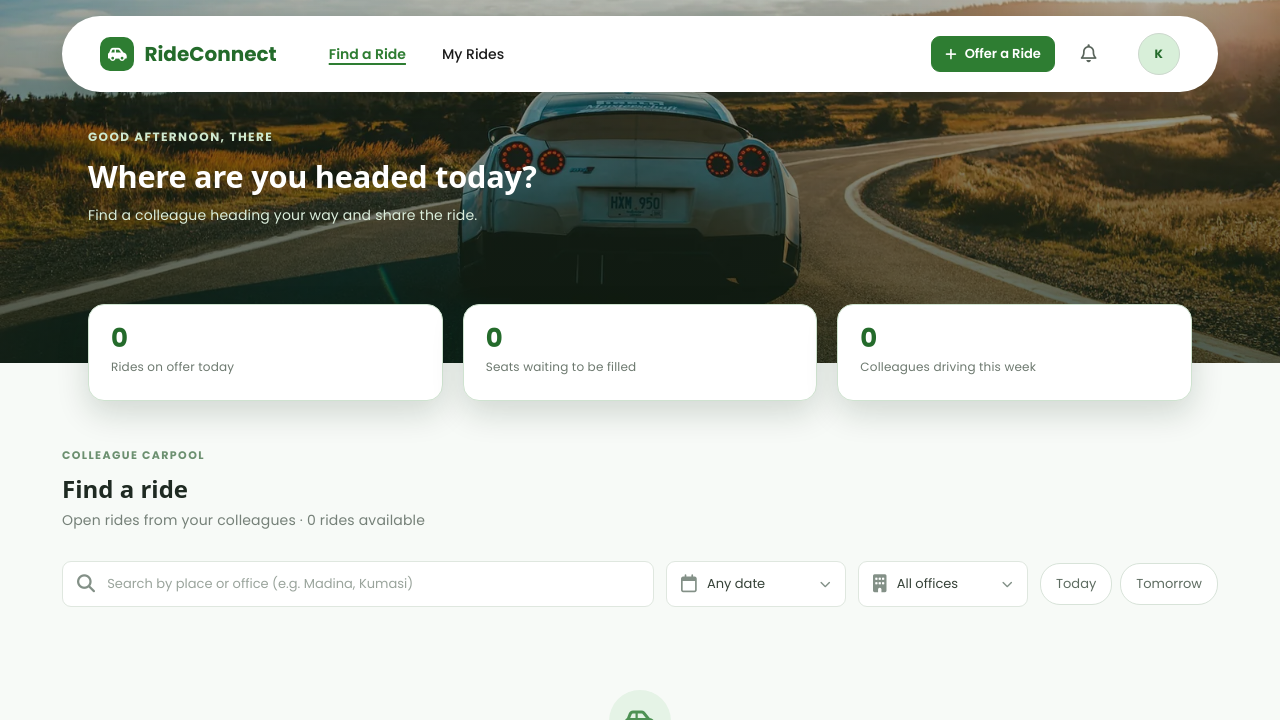
Scenario: App › logs the user out from the account menu and returns to the login screen
Expected: the heading "Find a ride" is shown, left=62, top=472, right=188, bottom=505
Click the button named "Account menu" at (1159, 54), box left=1138, top=33, right=1180, bottom=75
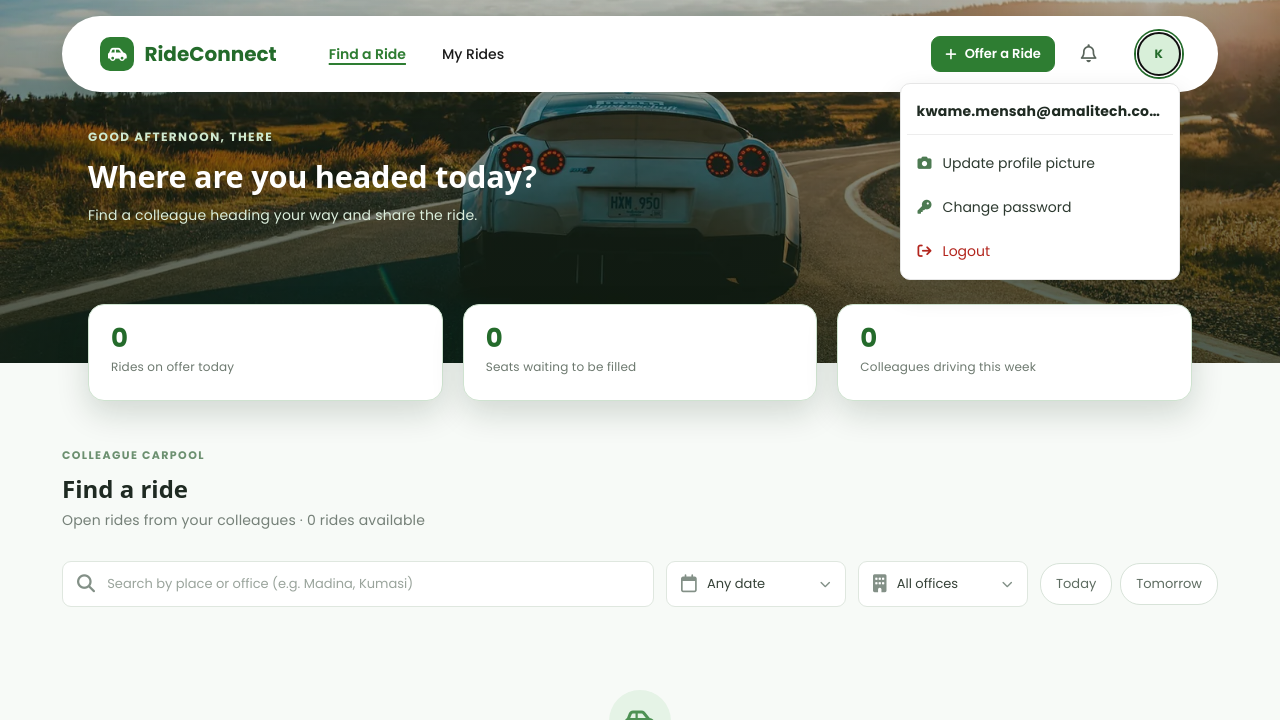
Click the menu item "Logout" at (966, 251), box left=907, top=229, right=1173, bottom=273
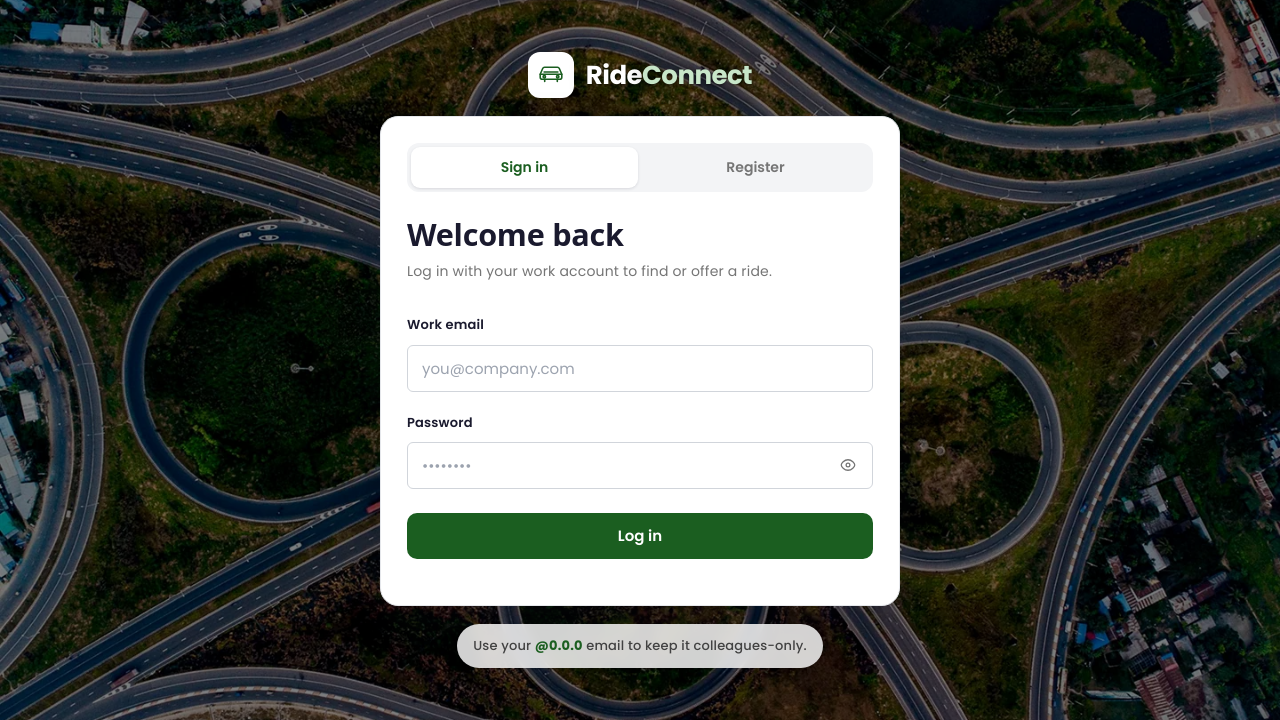
Result: the heading "Welcome back" is shown at left=407, top=213, right=624, bottom=255
